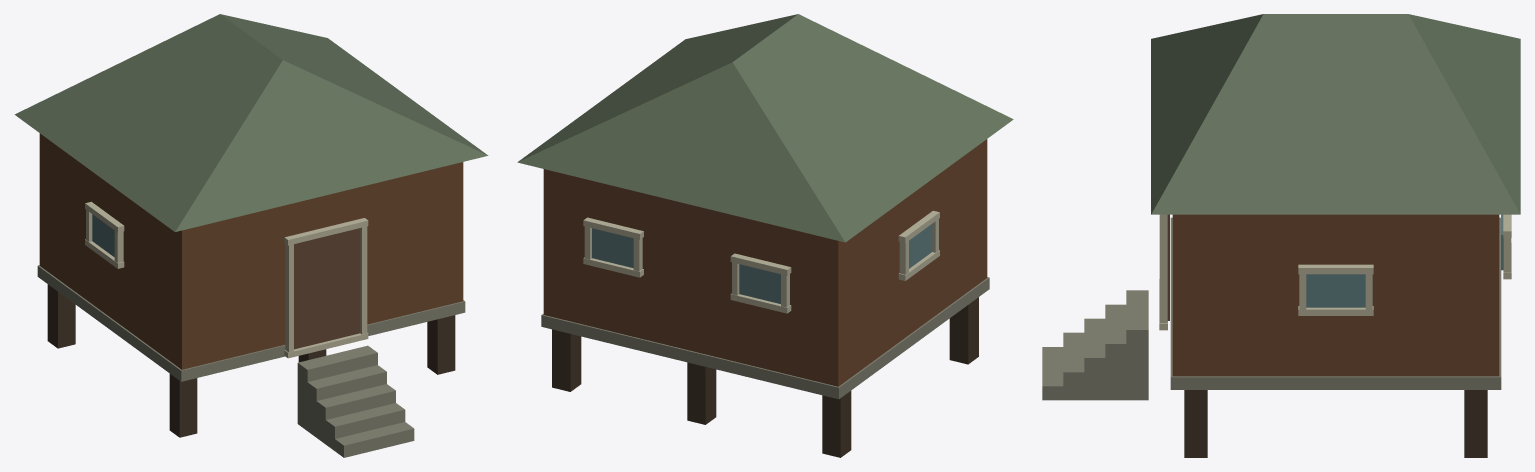
File: Building_Settlement_RaisedGranary_001_LOD1.glb
3 views of the same model, side by side, from view 1: azimuth 30°, elevation 25°; view 2: azimuth 150°, elevation 25°; view 3: azimuth 270°, elevation 25° (orthographic). The views are drawn at different scales.
Visible parts, largest first — view 1: Building_Settlement_RaisedGranary_001_LOD1; view 2: Building_Settlement_RaisedGranary_001_LOD1; view 3: Building_Settlement_RaisedGranary_001_LOD1.
Part boxes in pixels (left/top/right/bottom): Building_Settlement_RaisedGranary_001_LOD1: left=14, top=14, right=488, bottom=457; Building_Settlement_RaisedGranary_001_LOD1: left=517, top=14, right=1013, bottom=457; Building_Settlement_RaisedGranary_001_LOD1: left=1042, top=14, right=1520, bottom=457.
Size of the model in its own units: 5.35 by 5.2 by 6.15.
